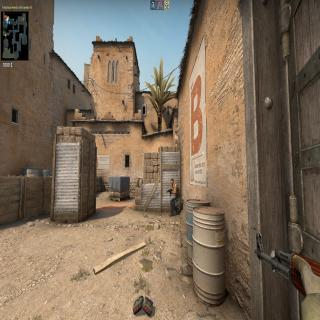T-Head: (170, 177, 174, 186)
